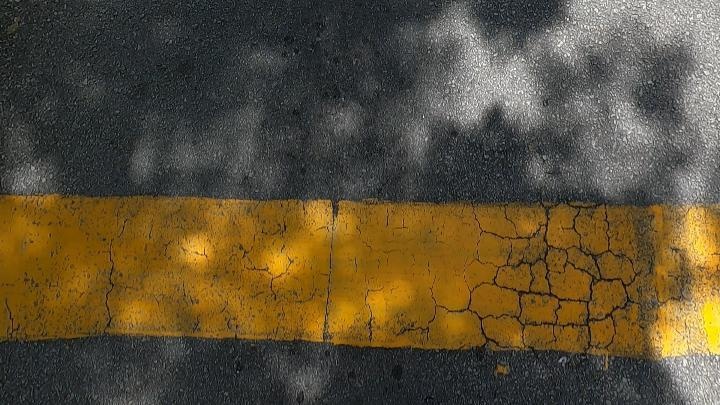Lane: (0, 185, 720, 355), (0, 196, 719, 356)
